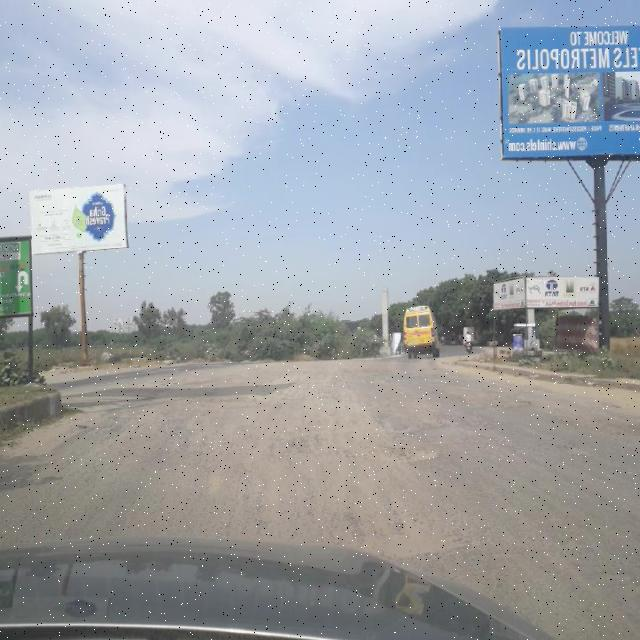D40: (338, 507, 506, 558), (170, 397, 234, 449), (242, 448, 284, 527), (353, 439, 451, 469), (382, 402, 475, 427), (480, 384, 541, 412), (556, 437, 596, 457)
